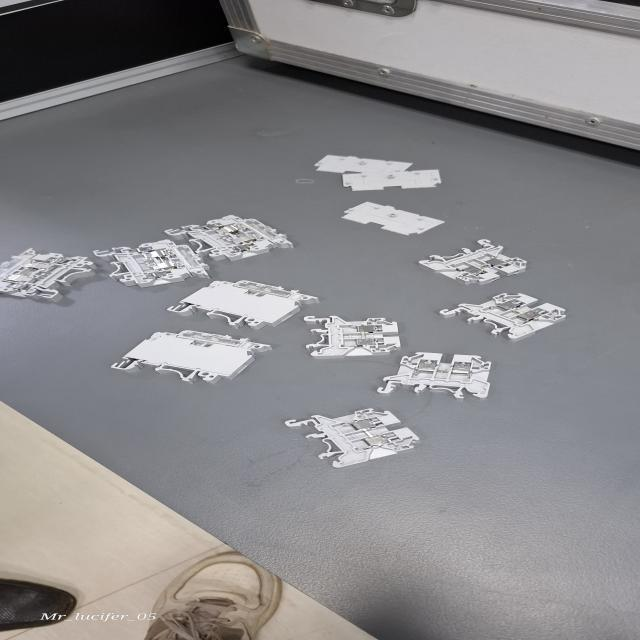Pass: (262, 402, 456, 478), (375, 352, 510, 402), (436, 292, 570, 342), (418, 235, 540, 288), (300, 312, 410, 362)
